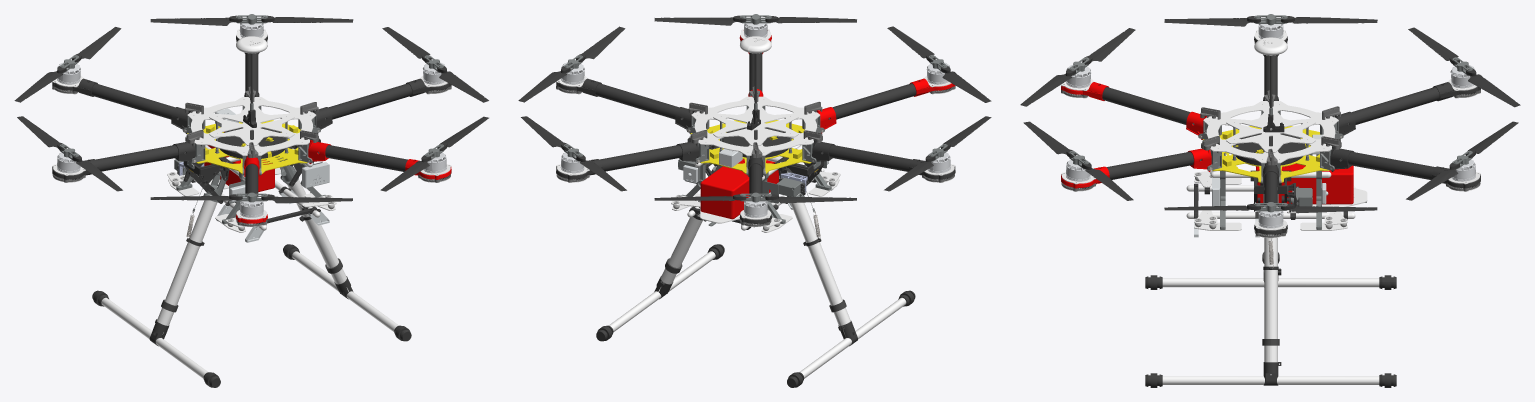
File: dji-s900.view.glb
3 views of the same model, side by side, from view 1: azimuth 30°, elevation 25°; view 2: azimuth 150°, elevation 25°; view 3: azimuth 270°, elevation 25° (orthographic). The views are drawn at different scales.
Visible parts, largest first — view 1: DJI S900 Arm (×6), DJI S900 Propellor CCW (×6), DJI S900 Landing Leg (×2), DJI S900 Propellor CW MIRROR (×5), DJI S900 Center Frame Top Outer Board, DJI S900 Landing Skid (×2), DJI S900 Center Frame Top Inner Board, DJI S900 Center Frame Bottom Board, DJI S900 Center Frame Bottom Cap, DJI S900 Landing Gear Block MIRROR, DJI S900 A2 Controller, DJI S900 LiPo Battery (+1 smaller); view 2: DJI S900 Arm (×6), DJI S900 Propellor CCW (×6), DJI S900 Landing Leg (×2), DJI S900 Propellor CW MIRROR (×5), DJI S900 Center Frame Top Outer Board, DJI S900 LiPo Battery, DJI S900 Landing Skid (×2), DJI S900 Center Frame Top Inner Board, DJI S900 Center Frame Bottom Board, DJI S900 Center Frame Bottom Cap, DJI S900 Landing Gear Block MIRROR, DJI S900 GPS Compass (+1 smaller); view 3: DJI S900 Arm (×6), DJI S900 Landing Skid (×2), DJI S900 Propellor CCW (×6), DJI S900 Propellor CW MIRROR (×6), DJI S900 Center Frame Top Outer Board, DJI S900 Center Frame Top Inner Board, DJI S900 LiPo Battery, DJI S900 Landing Leg, DJI S900 Center Frame Bottom Board, DJI S900 Center Frame Bottom Cap, DJI S900 Battery Rod, DJI S900 GPS Compass.
Part boxes in pixels (box(x1,y1,x2,y2)): DJI S900 Arm (×6): box(88, 53, 415, 196); DJI S900 Propellor CCW (×6): box(14, 27, 488, 203); DJI S900 Landing Leg (×2): box(157, 179, 347, 334); DJI S900 Propellor CW MIRROR (×5): box(17, 15, 431, 191); DJI S900 Center Frame Top Outer Board: box(187, 97, 316, 155); DJI S900 Landing Skid (×2): box(101, 251, 398, 378); DJI S900 Center Frame Top Inner Board: box(209, 105, 294, 145); DJI S900 Center Frame Bottom Board: box(187, 120, 307, 174); DJI S900 Center Frame Bottom Cap: box(218, 127, 285, 158); DJI S900 Landing Gear Block MIRROR: box(183, 157, 233, 185); DJI S900 A2 Controller: box(302, 162, 329, 188); DJI S900 LiPo Battery: box(204, 131, 274, 191); DJI S900 Arm (×6): box(592, 53, 919, 196); DJI S900 Propellor CCW (×6): box(518, 26, 991, 203); DJI S900 Landing Leg (×2): box(660, 193, 850, 334); DJI S900 Propellor CW MIRROR (×5): box(521, 15, 935, 191); DJI S900 Center Frame Top Outer Board: box(691, 96, 820, 155); DJI S900 LiPo Battery: box(700, 159, 778, 219); DJI S900 Landing Skid (×2): box(609, 251, 906, 378); DJI S900 Center Frame Top Inner Board: box(713, 105, 798, 145); DJI S900 Center Frame Bottom Board: box(690, 120, 811, 174); DJI S900 Center Frame Bottom Cap: box(722, 127, 789, 157); DJI S900 Landing Gear Block MIRROR: box(774, 148, 823, 178); DJI S900 GPS Compass: box(740, 36, 771, 53); DJI S900 Arm (×6): box(1099, 55, 1442, 206); DJI S900 Landing Skid (×2): box(1162, 278, 1379, 384); DJI S900 Propellor CCW (×6): box(1020, 27, 1520, 213); DJI S900 Propellor CW MIRROR (×6): box(1023, 16, 1518, 200); DJI S900 Center Frame Top Outer Board: box(1203, 101, 1338, 163); DJI S900 Center Frame Top Inner Board: box(1226, 110, 1315, 152); DJI S900 LiPo Battery: box(1256, 163, 1353, 204); DJI S900 Landing Leg: box(1264, 237, 1277, 362); DJI S900 Center Frame Bottom Board: box(1203, 126, 1329, 182); DJI S900 Center Frame Bottom Cap: box(1233, 133, 1305, 165); DJI S900 Battery Rod: box(1186, 212, 1355, 218); DJI S900 GPS Compass: box(1254, 37, 1287, 55).
Size of the model in its own units: 0.8719 by 0.5931 by 0.9112.
